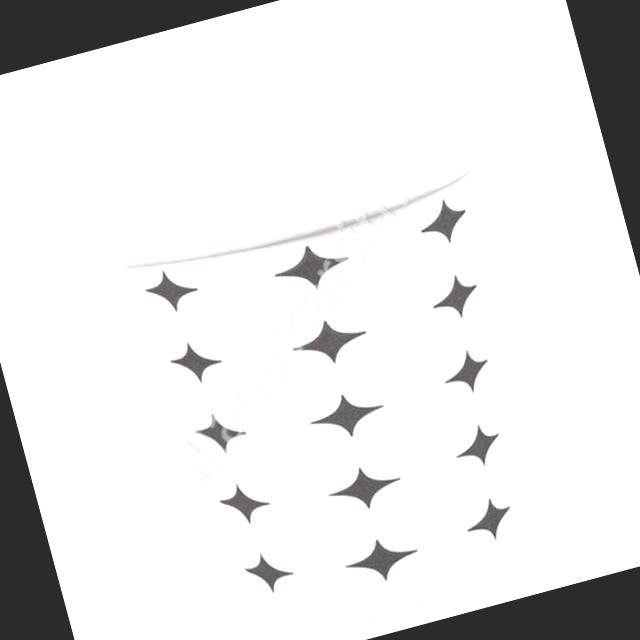trash: (84, 106, 589, 640)
